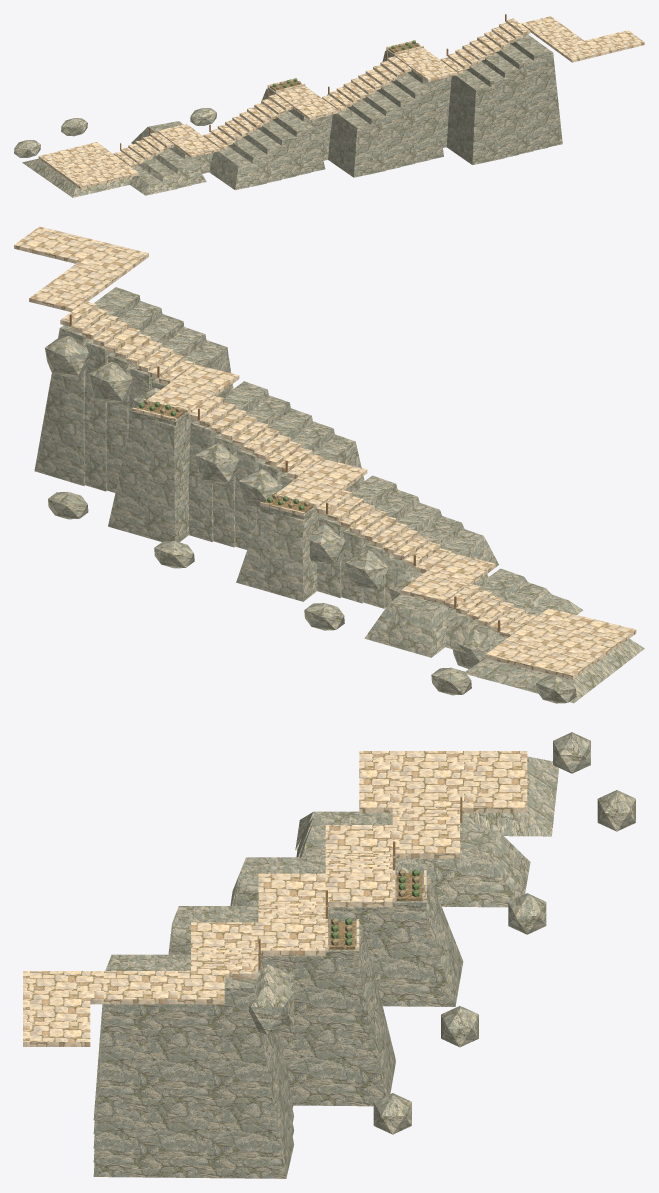
File: retreat_global_shore.glb
3 renders of one model, top to bottom at view 1: azimuth 30°, elevation 25°; view 2: azimuth 150°, elevation 25°; view 3: azimuth 270°, elevation 25°, orthographic. The views are drawn at different scales.
Parts seen in each view (by area): view 1: A1_APPROACH_cliff-backing, A1_APPROACH_floor-landings, A1_APPROACH_floor-shore, A1_APPROACH_floor-upper, A1_APPROACH_stair-flight-1, A1_APPROACH_stair-flight-2, A1_APPROACH_stair-flight-0, A1_APPROACH_shore-rock, A1_APPROACH_stair-flight-3, A1_APPROACH_garden-border; view 2: A1_APPROACH_cliff-backing, A1_APPROACH_floor-landings, A1_APPROACH_floor-shore, A1_APPROACH_floor-upper, A1_APPROACH_shore-rock, A1_APPROACH_stair-flight-0, A1_APPROACH_stair-flight-1, A1_APPROACH_stair-flight-2, A1_APPROACH_stair-flight-3; view 3: A1_APPROACH_cliff-backing, A1_APPROACH_floor-landings, A1_APPROACH_floor-shore, A1_APPROACH_floor-upper, A1_APPROACH_shore-rock, A1_APPROACH_stair-flight-0, A1_APPROACH_stair-flight-1, A1_APPROACH_stair-flight-2, A1_APPROACH_stair-flight-3, A1_APPROACH_garden-bed, A1_APPROACH_garden-produce, A1_APPROACH_garden-terrace.
Part boxes in pixels (x1,y1,x2,y2): A1_APPROACH_cliff-backing: (22,34,562,197); A1_APPROACH_floor-landings: (157,48,457,157); A1_APPROACH_floor-shore: (38,142,138,189); A1_APPROACH_floor-upper: (521,16,644,62); A1_APPROACH_stair-flight-1: (322,56,411,111); A1_APPROACH_stair-flight-2: (203,94,292,149); A1_APPROACH_stair-flight-0: (440,18,530,73); A1_APPROACH_shore-rock: (14,94,329,157); A1_APPROACH_stair-flight-3: (113,132,174,167); A1_APPROACH_garden-border: (267,40,423,92); A1_APPROACH_cliff-backing: (34,287,644,703); A1_APPROACH_floor-landings: (148,364,495,604); A1_APPROACH_floor-shore: (485,608,636,679); A1_APPROACH_floor-upper: (14,226,148,311); A1_APPROACH_shore-rock: (48,492,576,703); A1_APPROACH_stair-flight-0: (60,301,195,384); A1_APPROACH_stair-flight-1: (188,395,323,478); A1_APPROACH_stair-flight-2: (316,490,451,573); A1_APPROACH_stair-flight-3: (445,584,535,637); A1_APPROACH_cliff-backing: (93,756,558,1178); A1_APPROACH_floor-landings: (191,825,459,955); A1_APPROACH_floor-shore: (359,751,527,812); A1_APPROACH_floor-upper: (23,971,224,1046); A1_APPROACH_shore-rock: (373,732,635,1134); A1_APPROACH_stair-flight-0: (191,948,258,979); A1_APPROACH_stair-flight-1: (258,899,325,922); A1_APPROACH_stair-flight-2: (325,851,392,873); A1_APPROACH_stair-flight-3: (392,805,459,824); A1_APPROACH_garden-bed: (329,873,422,949); A1_APPROACH_garden-produce: (331,869,419,945); A1_APPROACH_garden-terrace: (325,874,426,960).
Size of the model in its own units: 50.84 by 11.83 by 27.35.
Materials: 6 (4 with a texture image).
